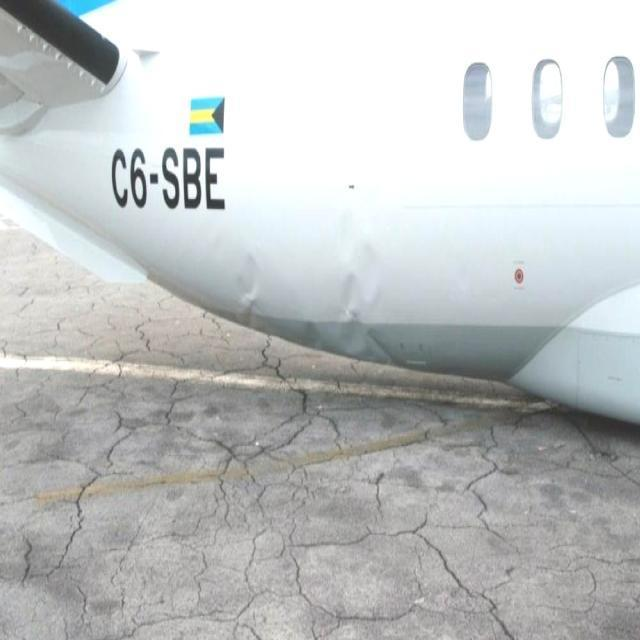dent: (322, 206, 384, 360), (235, 250, 275, 340)
